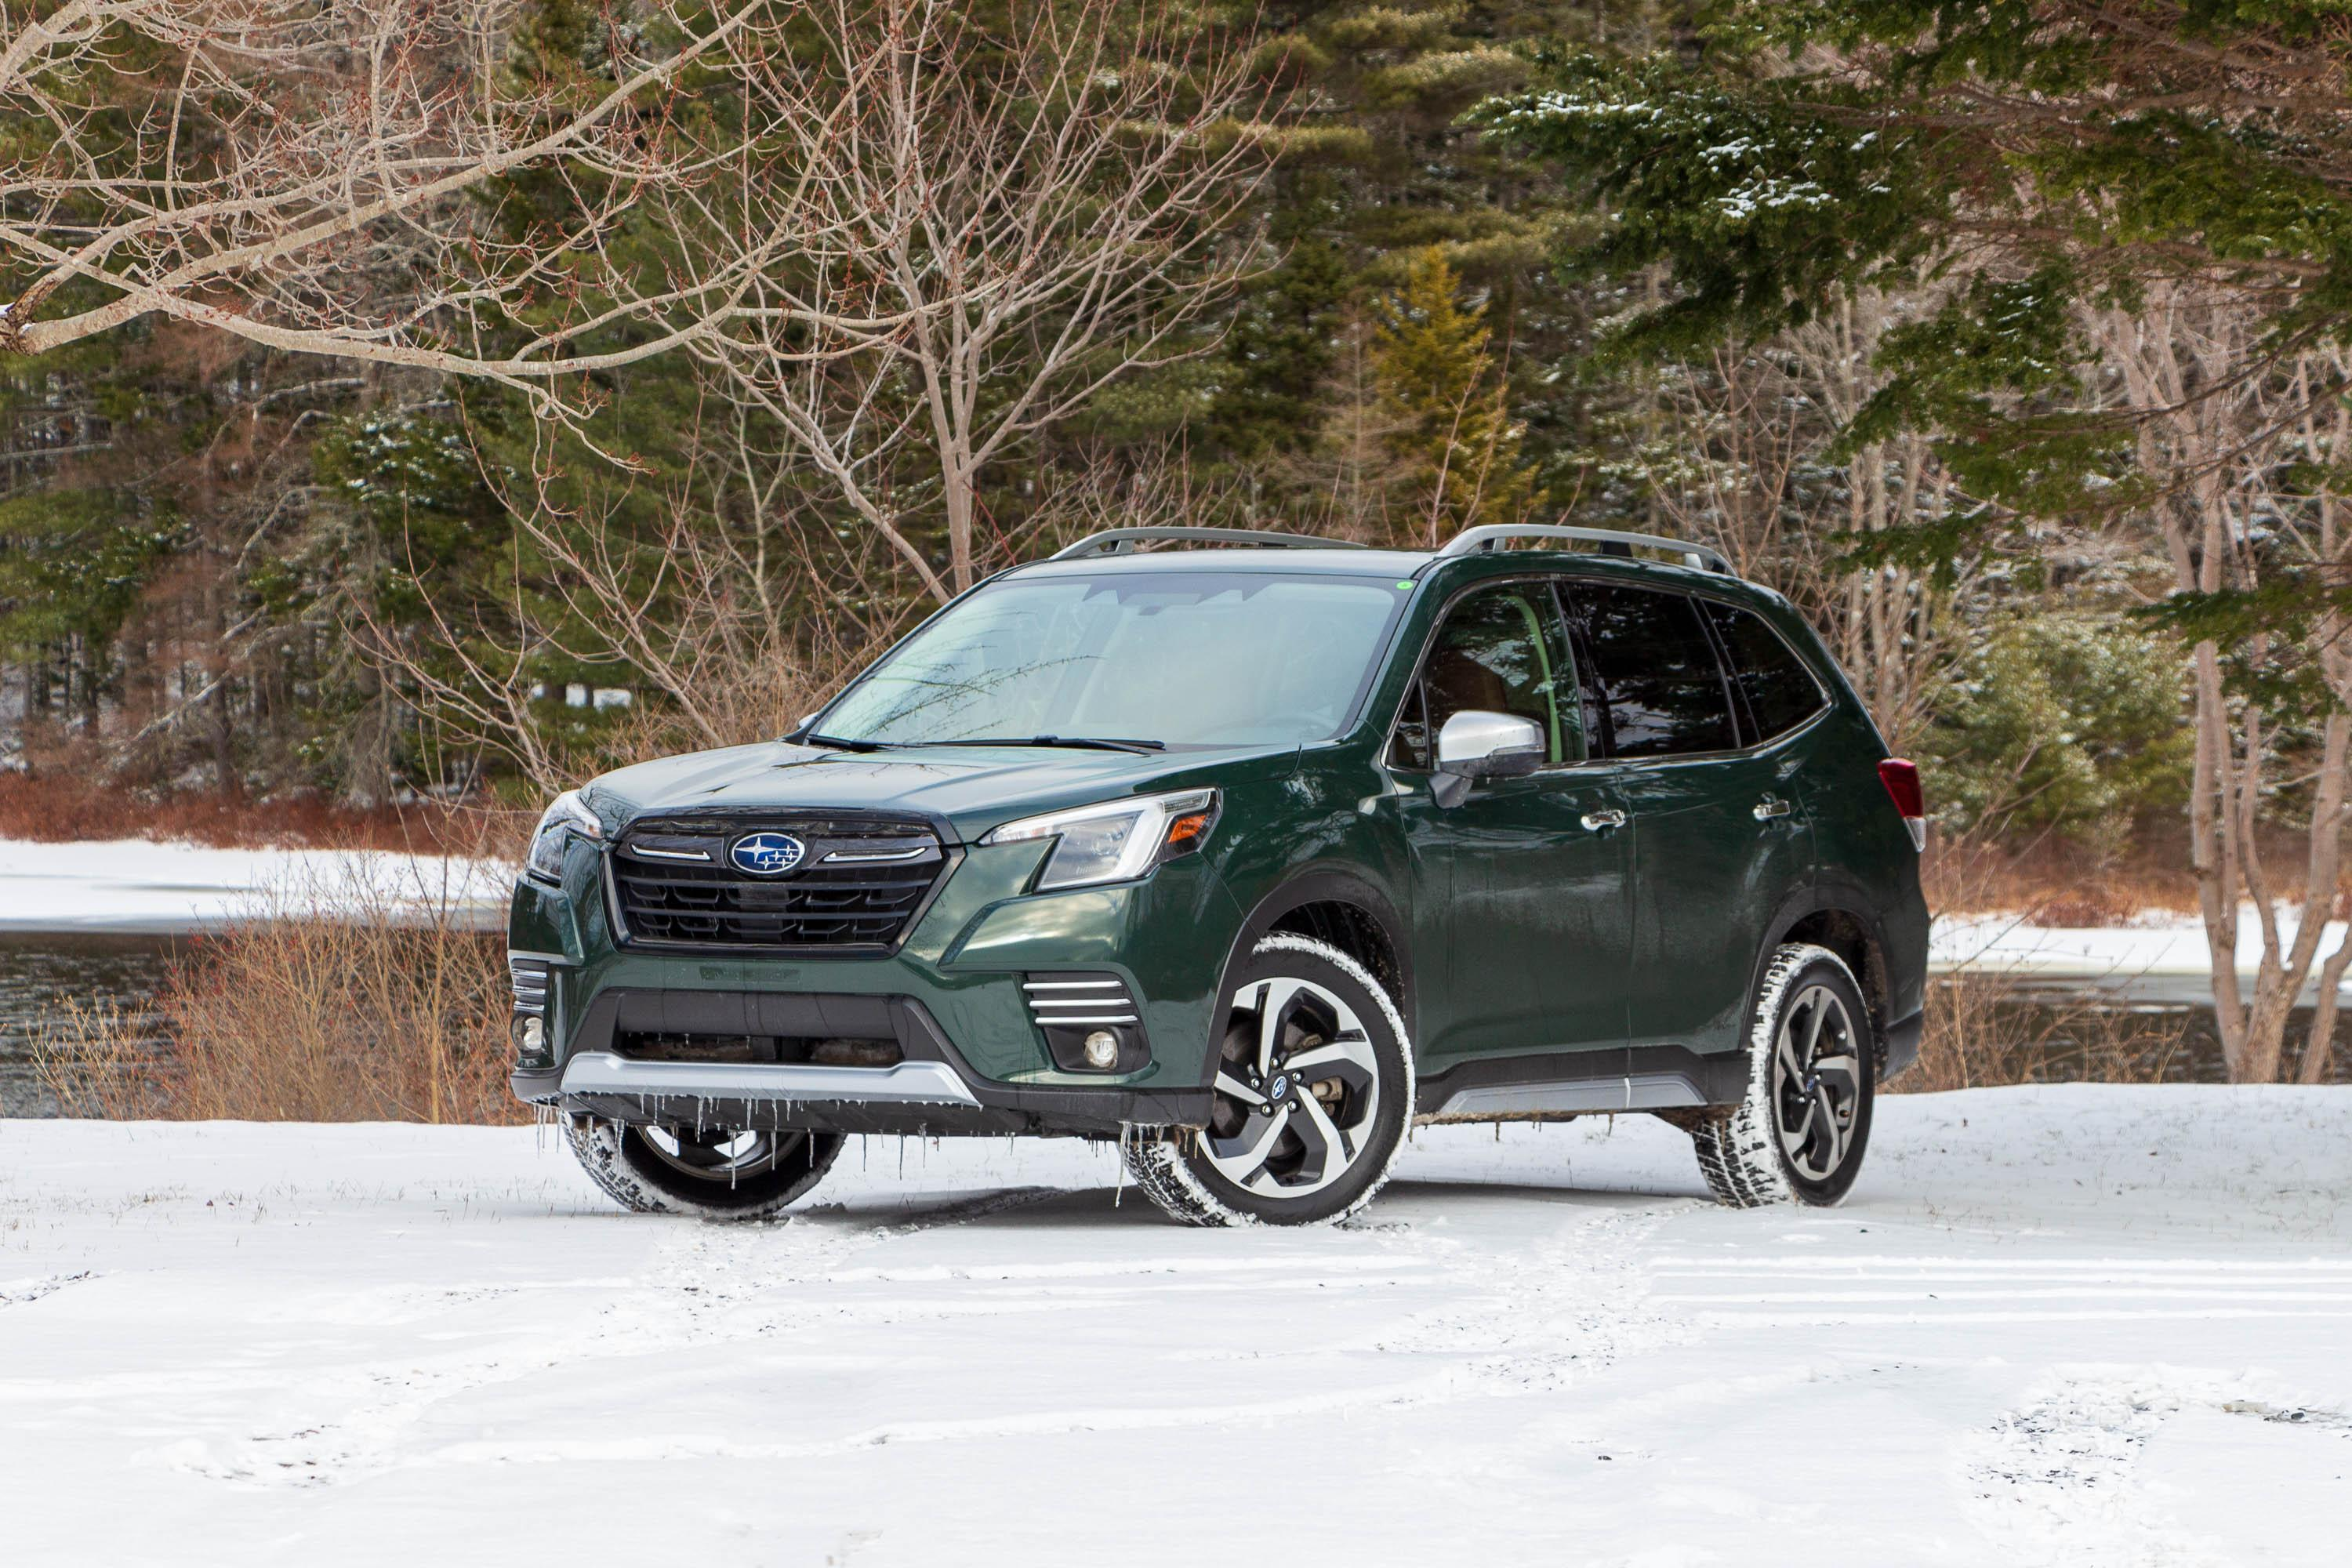subaru: (714, 816, 817, 891)
